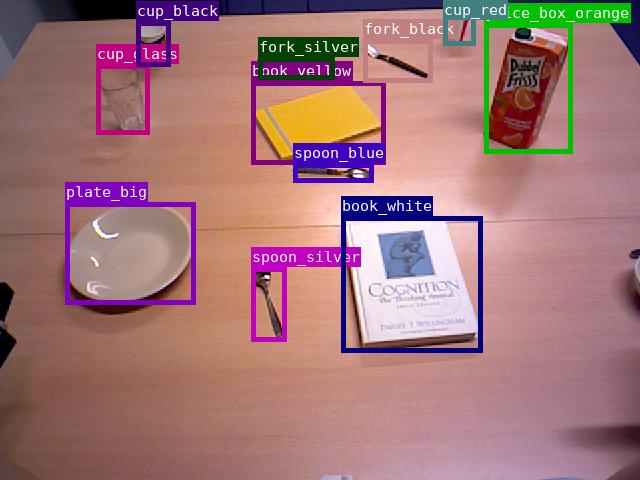book_white: (341, 216, 482, 352)
book_yellow: (251, 81, 385, 164)
cup_black: (136, 21, 170, 66)
cup_glass: (96, 64, 149, 134)
cup_red: (443, 0, 475, 45)
fork_black: (363, 39, 432, 82)
fork_silver: (258, 57, 334, 79)
juice_box_orange: (484, 23, 572, 153)
plate_big: (65, 202, 195, 304)
spoon_blue: (293, 163, 373, 182)
spoon_silver: (251, 267, 286, 341)
